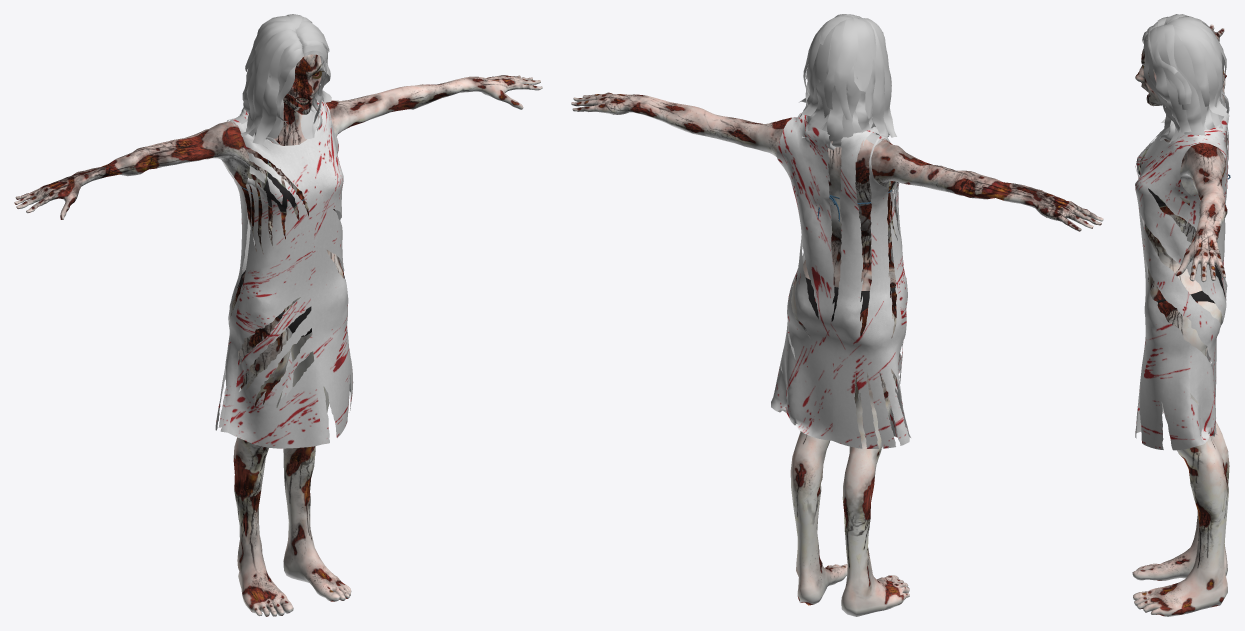
Rendered from rapoaso.obj.
3 renders of one model, left to right at view 1: azimuth 30°, elevation 25°; view 2: azimuth 150°, elevation 25°; view 3: azimuth 270°, elevation 25°, orthographic.
Size of the model in its own units: 1546 by 1629 by 251.
